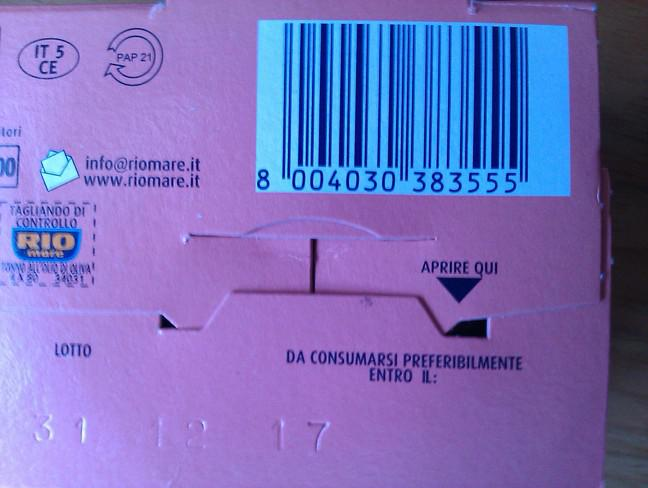Barkod: (256, 19, 568, 192)
